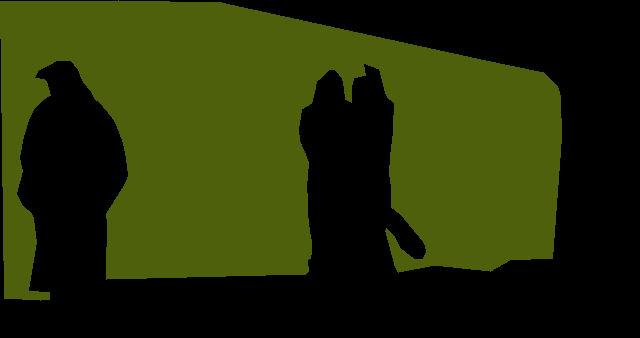Train: (0, 0, 561, 300)
